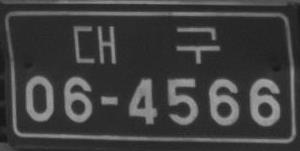0: (24, 73, 53, 122)
4: (127, 77, 157, 125)
5: (166, 76, 198, 125)
6: (207, 76, 239, 125), (249, 77, 280, 126), (62, 74, 92, 122)
대구_D: (72, 24, 220, 64)
